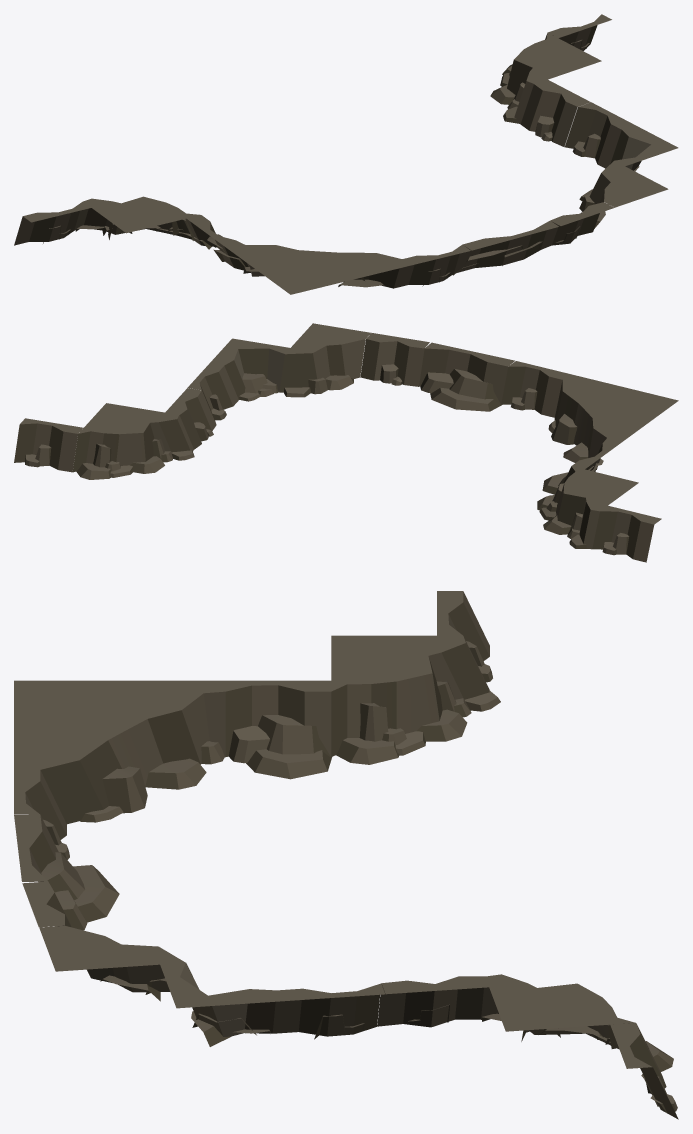
Rendered from RocksDown.fbx.
3 renders of one model, top to bottom at view 1: azimuth 30°, elevation 25°; view 2: azimuth 150°, elevation 25°; view 3: azimuth 270°, elevation 25°, orthographic. The views are drawn at different scales.
Parts seen in each view (by area): view 1: RocksDown; view 2: RocksDown; view 3: RocksDown.
Part boxes in pixels (<box>): RocksDown: <box>14,14,678,294</box>; RocksDown: <box>14,323,678,562</box>; RocksDown: <box>14,591,678,1119</box>.
Size of the model in its own units: 107 by 6.13 by 62.88.
